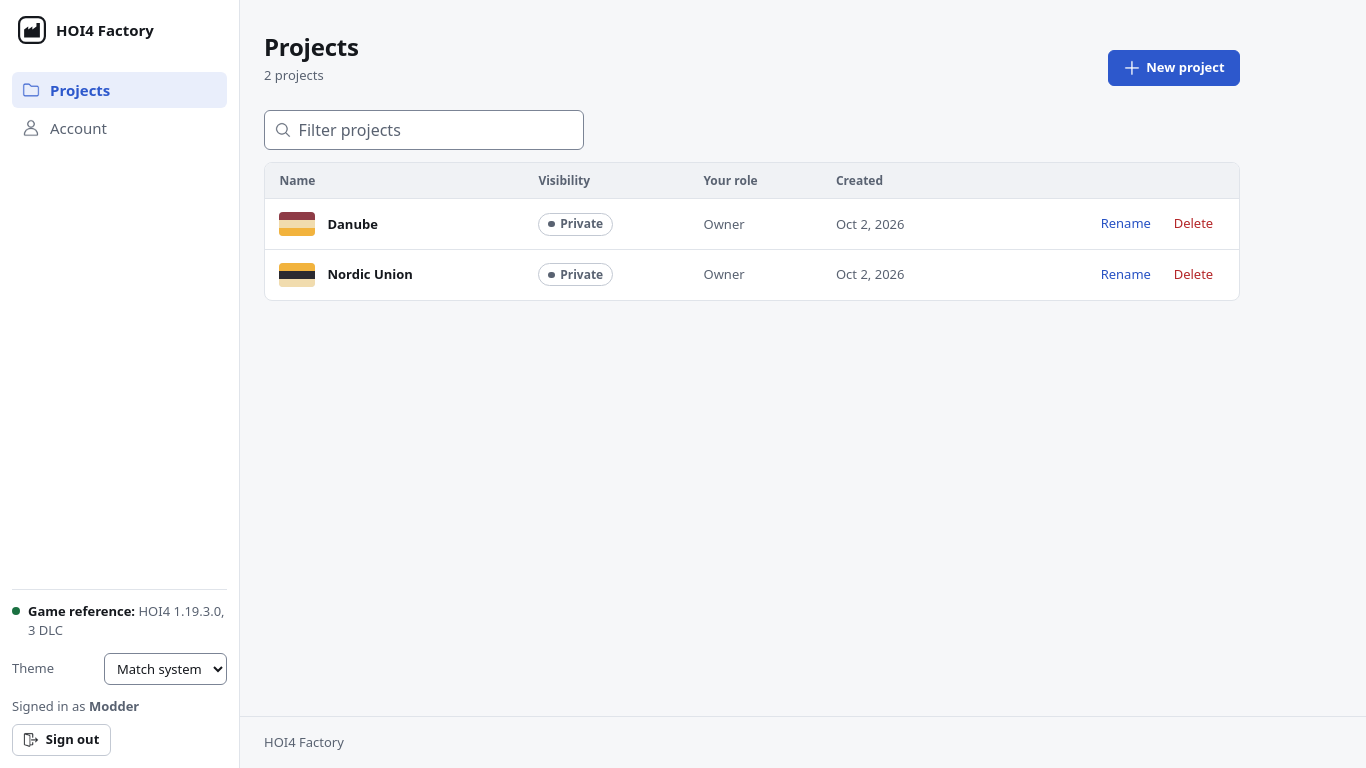
Scenario: project list › opens the new project form from the header and filters the list
Expected: the text "2 projects" is shown, top-left (264, 66), bottom-right (324, 84)
In the search field labelled "Filter projects": (424,130) top-left (264, 110), bottom-right (584, 150), type "nord"
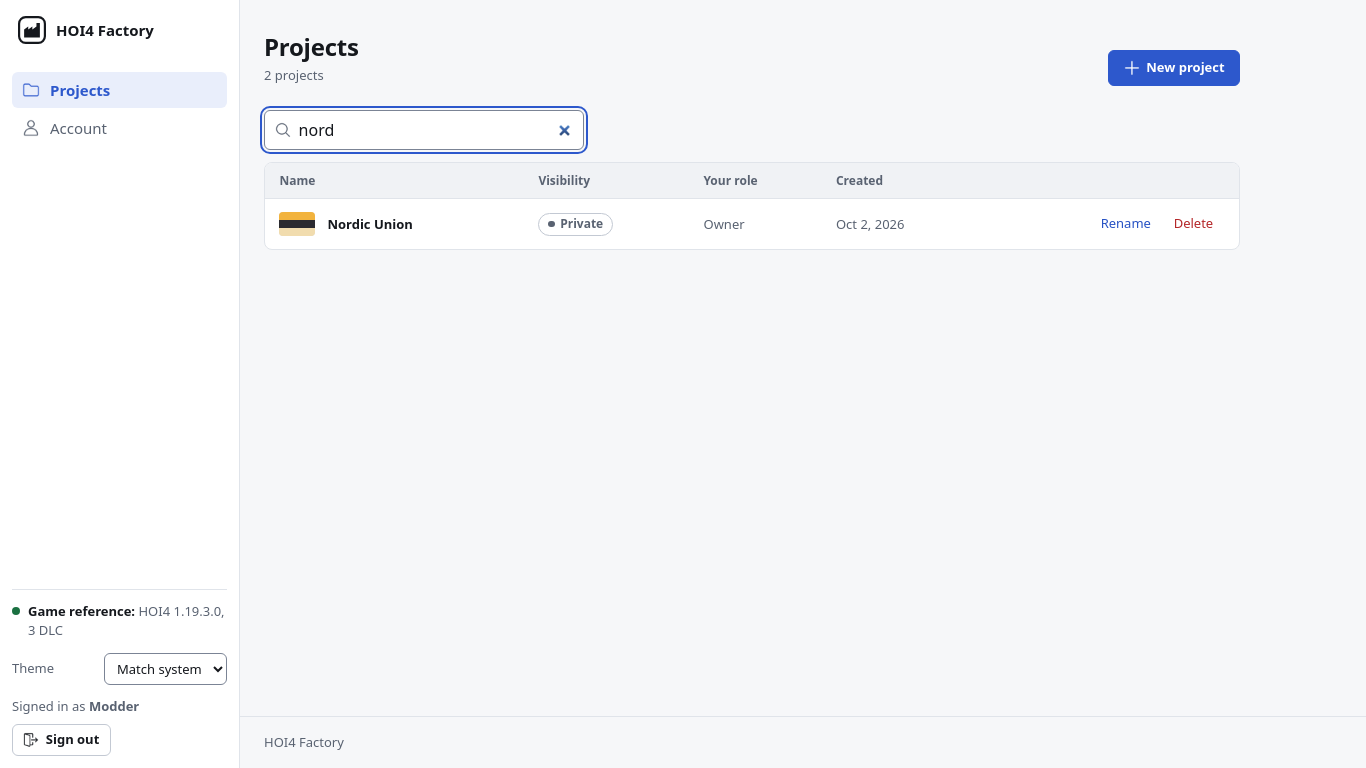
Expected: the link "Nordic Union" is shown, top-left (327, 214), bottom-right (413, 234)
Result: the link "Danube" is gone
Click the button "New project": (1174,68) top-left (1108, 50), bottom-right (1240, 86)
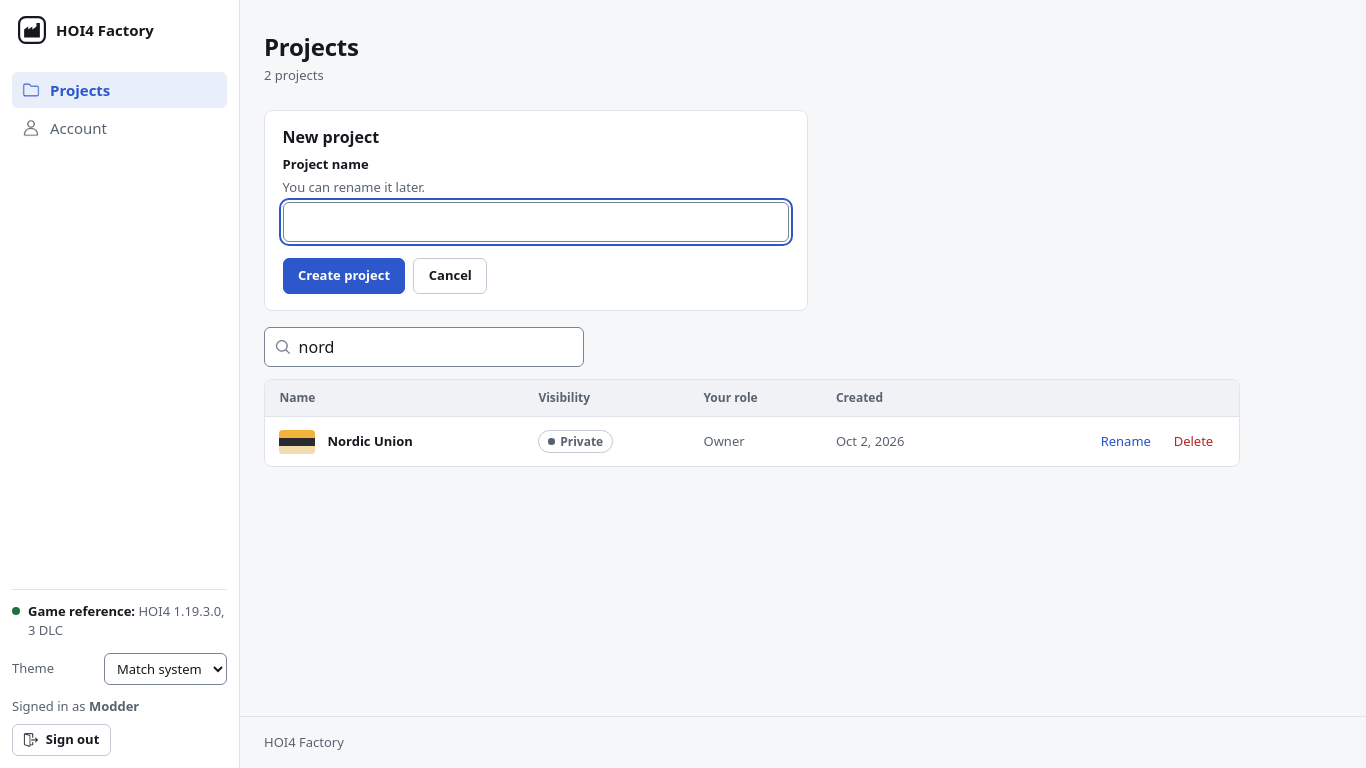
Result: the form "New project" is shown at top-left (264, 110), bottom-right (808, 311)
